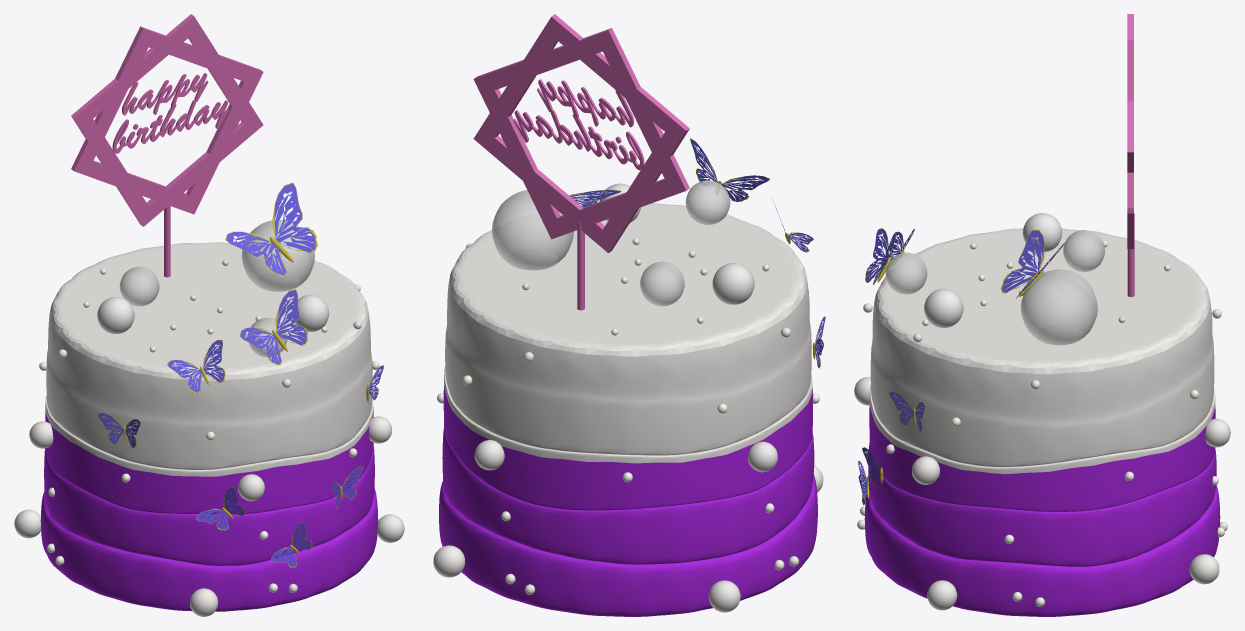
File: Butterfly_4.1.glb
The picture shows the model from 3 angles, left to right: view 1: azimuth 30°, elevation 25°; view 2: azimuth 150°, elevation 25°; view 3: azimuth 270°, elevation 25°; orthographic projection. The views are drawn at different scales.
Visible parts, largest first — view 1: Cylinder.002, Cylinder.006, butterfly.007, Sphere.018, butterfly.004, Sphere.001, butterfly.006, Sphere.019, Sphere.014, Sphere.015, butterfly.002, butterfly.008 (+6 smaller); view 2: Cylinder.002, Cylinder.006, Sphere.018, Sphere.001, Sphere.019, Sphere.020, Sphere.014, butterfly.004, Sphere.005, Sphere.004; view 3: Cylinder.002, Sphere.018, Cylinder.006, Sphere.001, butterfly.007, Sphere.020, Sphere.019, Sphere.015, Sphere.014, butterfly.004, butterfly.003, Sphere.006 (+1 smaller).
Part boxes in pixels (left/top/right/bottom): Cylinder.002: left=40, top=242, right=378, bottom=611; Cylinder.006: left=71, top=14, right=263, bottom=277; butterfly.007: left=225, top=182, right=317, bottom=276; Sphere.018: left=241, top=220, right=314, bottom=291; butterfly.004: left=239, top=289, right=307, bottom=365; Sphere.001: left=14, top=509, right=404, bottom=616; butterfly.006: left=167, top=340, right=225, bottom=392; Sphere.019: left=119, top=266, right=159, bottom=306; Sphere.014: left=97, top=297, right=134, bottom=333; Sphere.015: left=292, top=294, right=329, bottom=331; butterfly.002: left=196, top=487, right=245, bottom=530; butterfly.008: left=271, top=523, right=312, bottom=567; Cylinder.002: left=439, top=203, right=817, bottom=616; Cylinder.006: left=473, top=14, right=689, bottom=310; Sphere.018: left=492, top=190, right=573, bottom=270; Sphere.001: left=433, top=466, right=823, bottom=612; Sphere.019: left=640, top=261, right=684, bottom=306; Sphere.020: left=685, top=180, right=730, bottom=224; Sphere.014: left=712, top=263, right=754, bottom=304; butterfly.004: left=690, top=138, right=769, bottom=201; Sphere.005: left=474, top=440, right=504, bottom=470; Sphere.004: left=748, top=441, right=777, bottom=472; Cylinder.002: left=864, top=228, right=1220, bottom=616; Sphere.018: left=1020, top=269, right=1097, bottom=345; Cylinder.006: left=1127, top=14, right=1134, bottom=296; Sphere.001: left=865, top=476, right=1219, bottom=610; butterfly.007: left=1000, top=230, right=1064, bottom=298; Sphere.020: left=885, top=252, right=927, bottom=294; Sphere.019: left=1063, top=230, right=1104, bottom=271; Sphere.015: left=924, top=288, right=963, bottom=327; Sphere.014: left=1022, top=213, right=1062, bottom=252; butterfly.004: left=865, top=228, right=895, bottom=284; butterfly.003: left=888, top=391, right=924, bottom=431; Sphere.006: left=912, top=456, right=939, bottom=484.
Bounding box in the file's own units: 0.1636 × 0.2496 × 0.1649.
